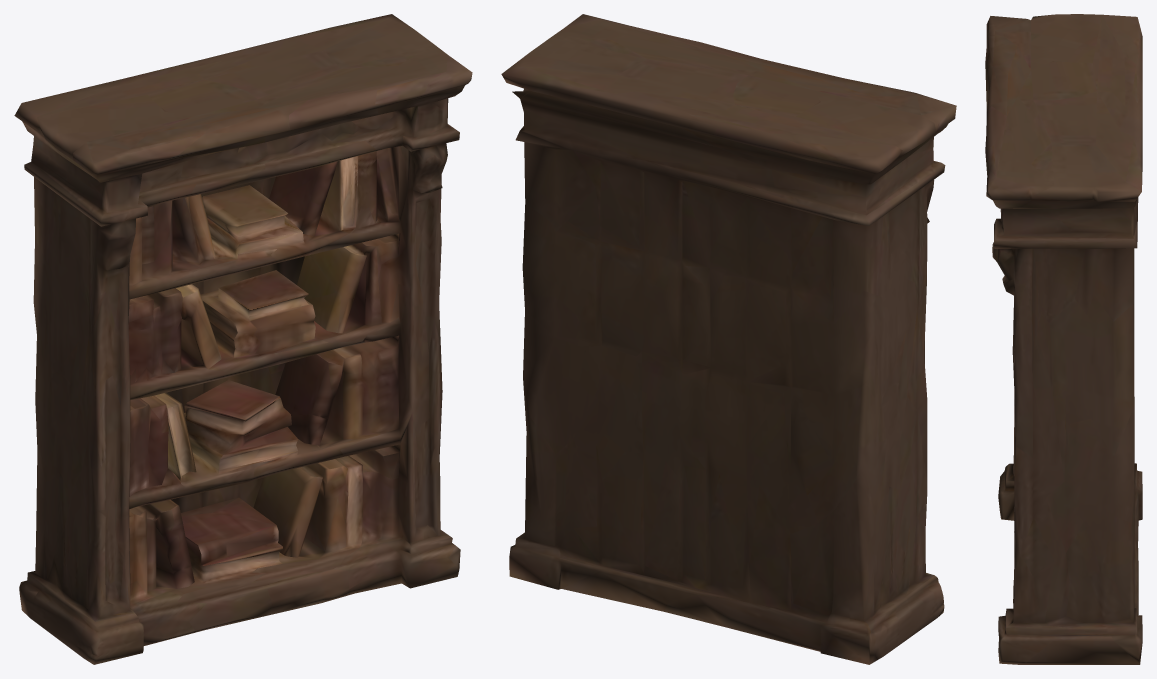
The model's file is bookcase.glb.
3 views of the same model, side by side, from view 1: azimuth 30°, elevation 25°; view 2: azimuth 150°, elevation 25°; view 3: azimuth 270°, elevation 25° (orthographic). The views are drawn at different scales.
Visible parts, largest first — view 1: tripo_node_f453968e-2359-4c37-a38b-b11a5c68e2f3; view 2: tripo_node_f453968e-2359-4c37-a38b-b11a5c68e2f3; view 3: tripo_node_f453968e-2359-4c37-a38b-b11a5c68e2f3.
Part boxes in pixels (x1=…): tripo_node_f453968e-2359-4c37-a38b-b11a5c68e2f3: x1=14, y1=14, x2=472, y2=664; tripo_node_f453968e-2359-4c37-a38b-b11a5c68e2f3: x1=501, y1=14, x2=956, y2=664; tripo_node_f453968e-2359-4c37-a38b-b11a5c68e2f3: x1=985, y1=14, x2=1142, y2=664.
Bounding box in the file's own units: 0.7671 × 0.9802 × 0.2905.
Materials: 1 (1 with a texture image).
